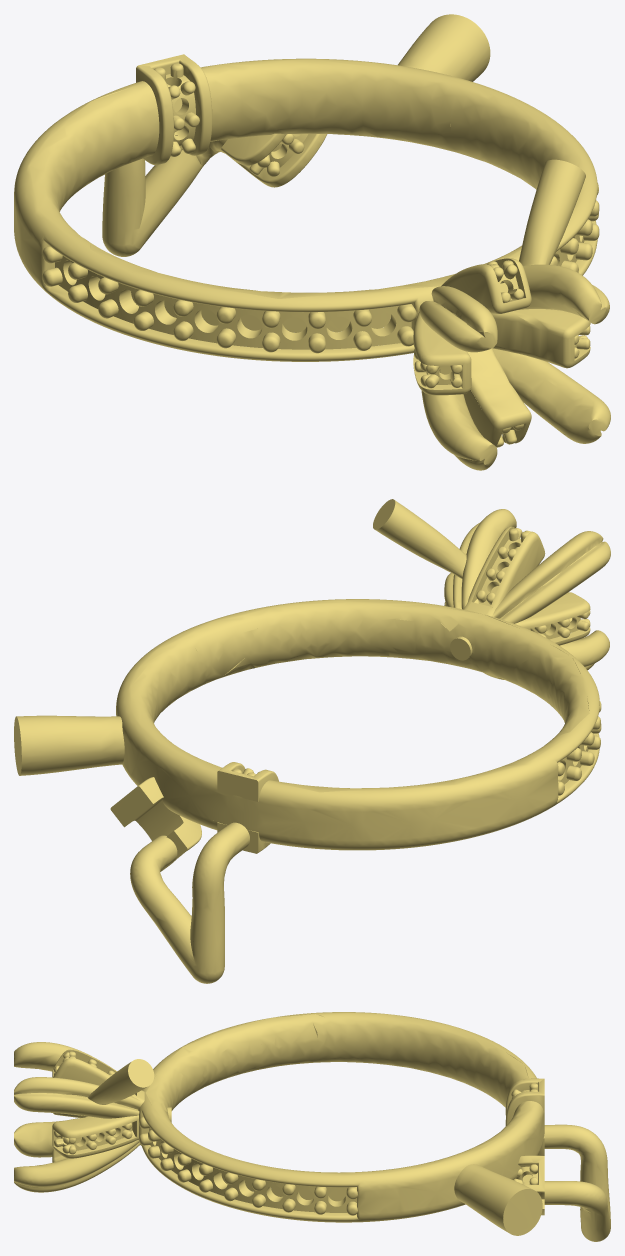
3 renders of one model, top to bottom at view 1: azimuth 30°, elevation 25°; view 2: azimuth 150°, elevation 25°; view 3: azimuth 270°, elevation 25°, orthographic. The views are drawn at different scales.
Visible parts, largest first — view 1: Renderer Node; view 2: Renderer Node; view 3: Renderer Node.
Part boxes in pixels (x1,y1,x2,y2): Renderer Node: (14, 14, 610, 470); Renderer Node: (14, 499, 610, 983); Renderer Node: (14, 1012, 610, 1241).
Bounding box in the file's own units: 22.93 × 12.33 × 30.8.
